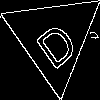D: (28, 12, 80, 71)
